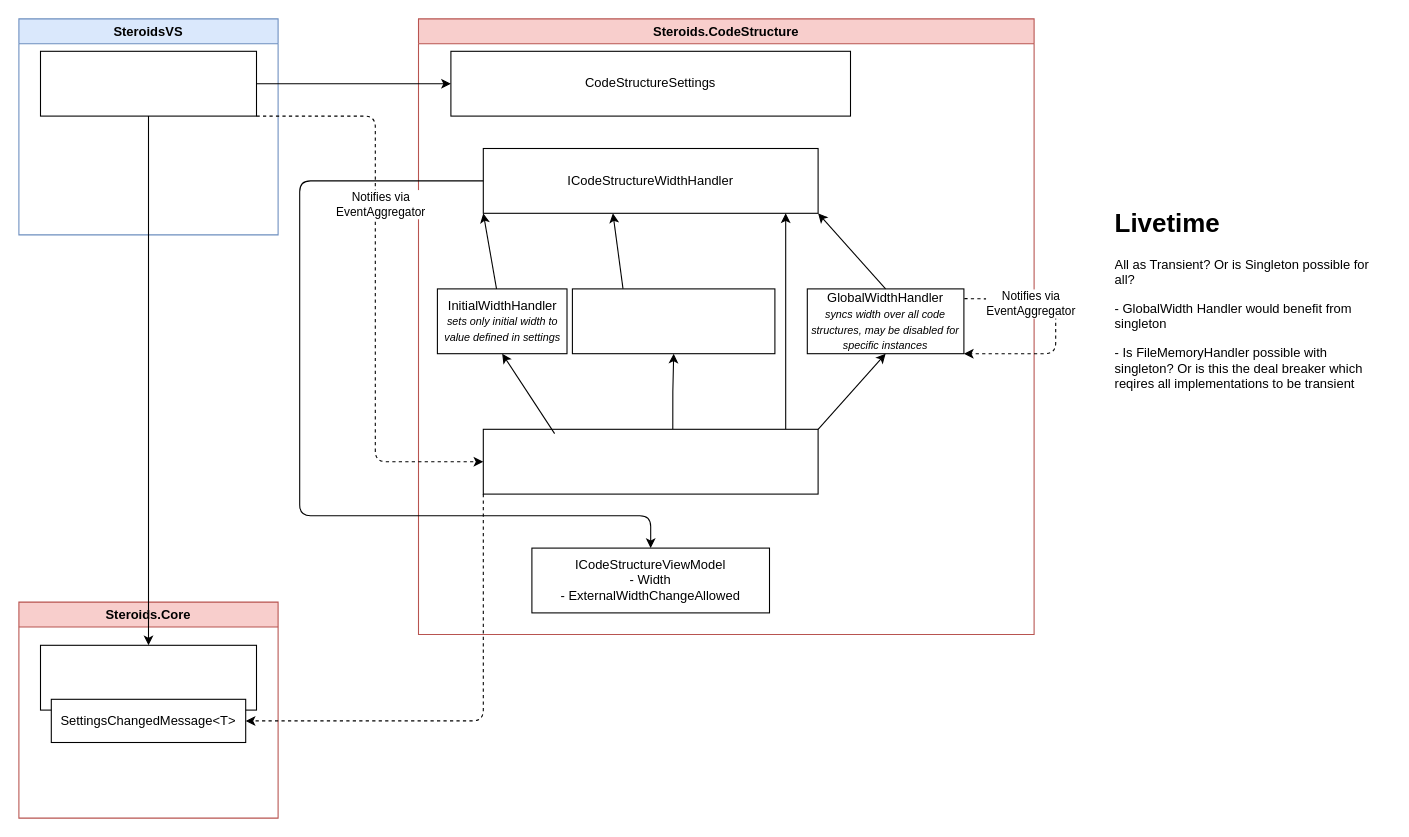
Image size: 1409x837. Some labels were removed from this diagram. The shapes that lost their labels are listed below. From the top down, each one's centre as x and y in pixels, then its label:
the point at 147,83: VisualStudioSettingsManager<T>
the point at 673,321: DocumentMemoryWidthHandler sets width to last known width in file
the point at 650,461: SettingsAwareWidthHandler
the point at 147,677: ISettingsManager<T>
